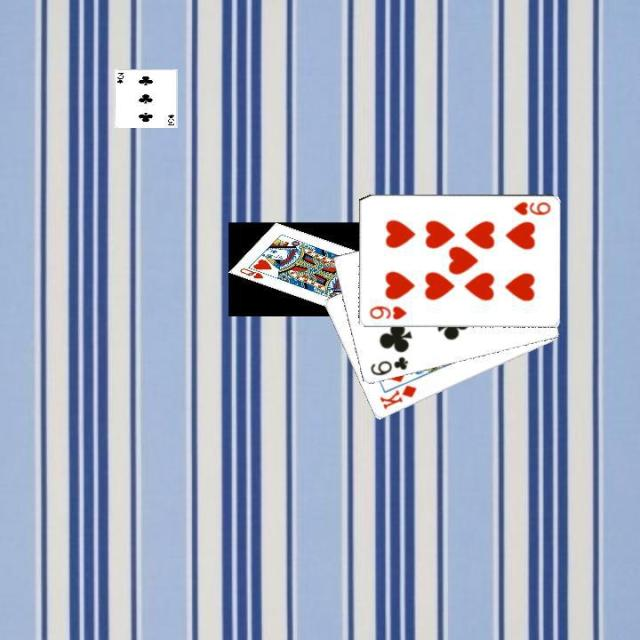6C: (366, 353, 410, 378)
9H: (365, 302, 408, 322), (509, 198, 552, 217)
KD: (376, 382, 419, 412)
